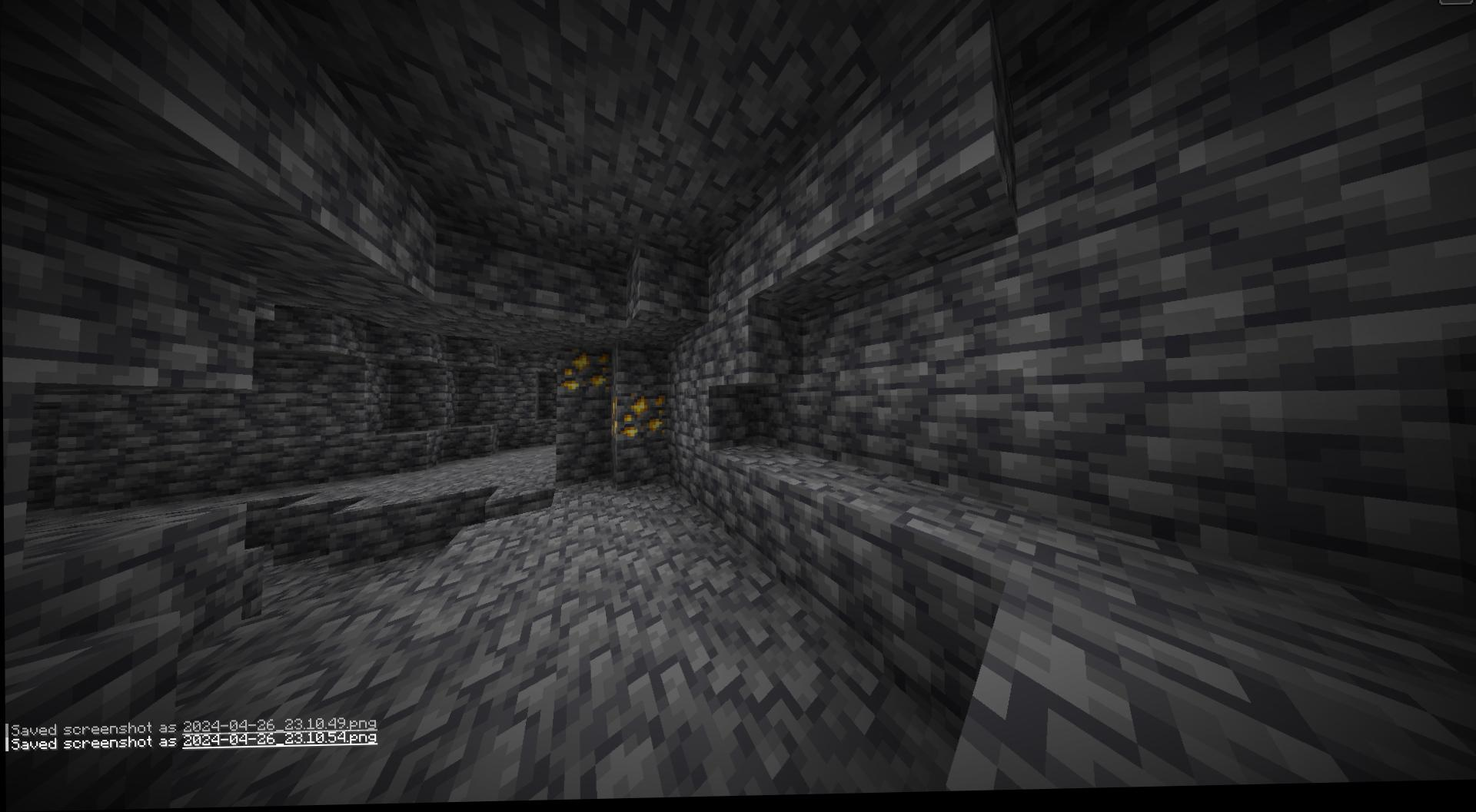gold ore: (613, 392, 670, 439), (558, 346, 612, 395)
